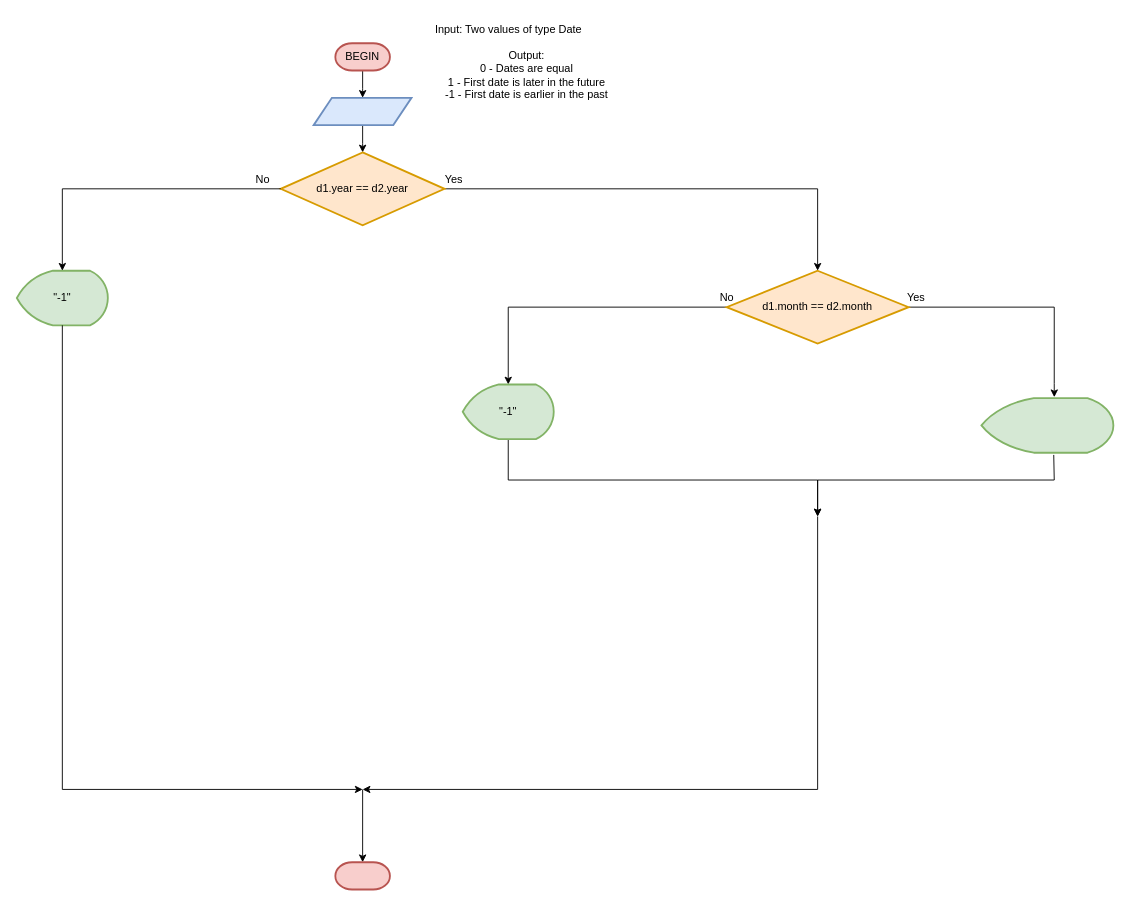
Image size: 1129x905. Some labels were removed from this diagram. Each missing label, with the box of its shape:
abs(d1.day - d2.day): (980, 397, 1114, 453)
END: (334, 861, 390, 890)
Read d1, d2: (312, 96, 412, 126)
